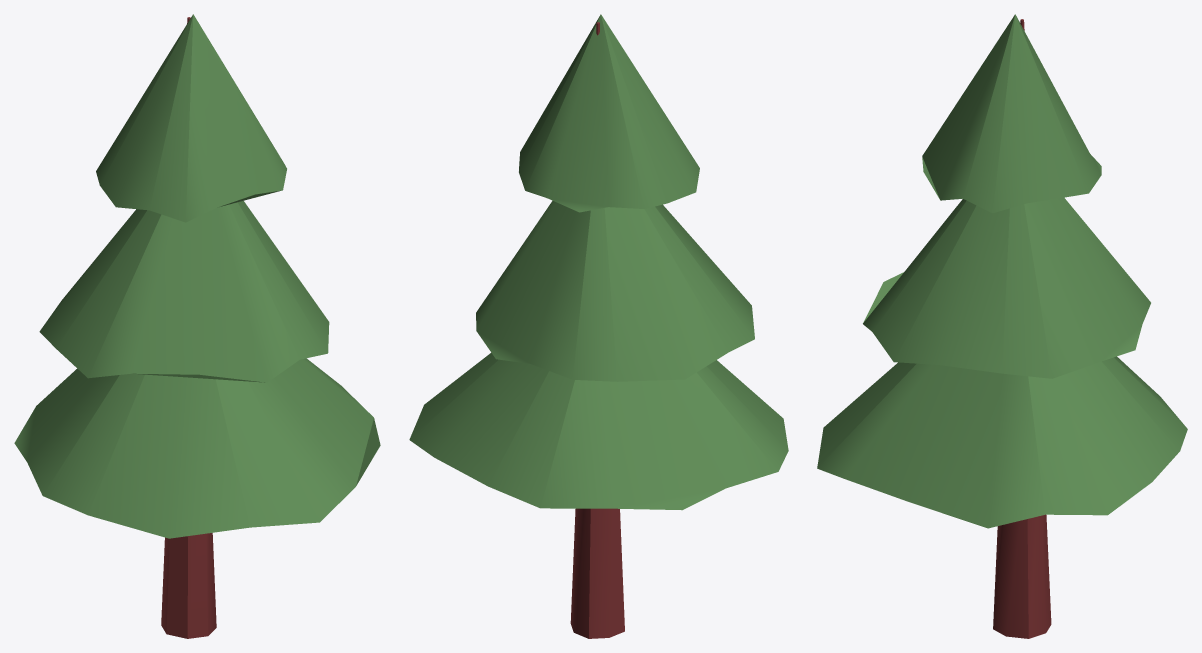
The model's file is pine_01.glb.
The picture shows the model from 3 angles, left to right: view 1: azimuth 30°, elevation 25°; view 2: azimuth 150°, elevation 25°; view 3: azimuth 270°, elevation 25°; orthographic projection.
Visible parts, largest first — view 1: default_Material_0; view 2: default_Material_0; view 3: default_Material_0.
Part boxes in pixels (x1,y1,x2,y2): default_Material_0: (14,14,380,638); default_Material_0: (409,14,788,638); default_Material_0: (817,14,1187,638).
Size of the model in its own units: 0.0321 by 0.0569 by 0.0312.
Materials: 1 (1 with a texture image).
